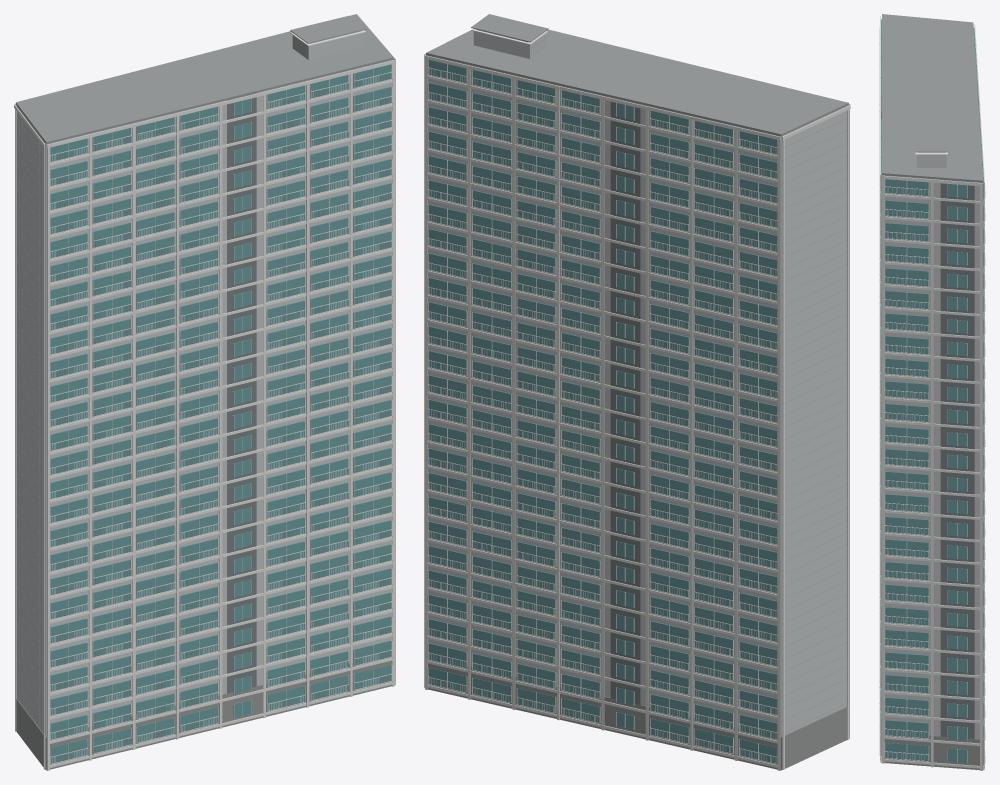
File: bespoke-jamsil-ricenz-228.glb
3 renders of one model, left to right at view 1: azimuth 30°, elevation 25°; view 2: azimuth 150°, elevation 25°; view 3: azimuth 270°, elevation 25°, orthographic. The views are drawn at different scales.
Visible parts, largest first — view 1: Ricenz228_editable_Ricenz228_turquoise_balcony_glazing, Ricenz228_editable_Ricenz228_light_grey_solid_wall, Ricenz228_white_exact_chunk_2, Ricenz228_white_exact_chunk_1, Ricenz228_white_exact_chunk_0, Ricenz228_editable_Ricenz228_modest_grey_flat_roof_caps, Ricenz228_editable_Ricenz228_narrow_charcoal_service_strips, Ricenz228_editable_Ricenz228_muted_ground_wall, Ricenz228_white_exact_chunk_3; view 2: Ricenz228_editable_Ricenz228_turquoise_balcony_glazing, Ricenz228_editable_Ricenz228_light_grey_solid_wall, Ricenz228_white_exact_chunk_4, Ricenz228_white_exact_chunk_5, Ricenz228_white_exact_chunk_6, Ricenz228_editable_Ricenz228_modest_grey_flat_roof_caps, Ricenz228_white_exact_chunk_3, Ricenz228_editable_Ricenz228_narrow_charcoal_service_strips, Ricenz228_editable_Ricenz228_muted_ground_wall, Ricenz228_white_exact_chunk_0; view 3: Ricenz228_editable_Ricenz228_turquoise_balcony_glazing, Ricenz228_white_exact_chunk_3, Ricenz228_editable_Ricenz228_modest_grey_flat_roof_caps, Ricenz228_editable_Ricenz228_light_grey_solid_wall, Ricenz228_editable_Ricenz228_narrow_charcoal_service_strips, Ricenz228_white_exact_chunk_2, Ricenz228_editable_Ricenz228_muted_ground_wall, Ricenz228_white_exact_chunk_6.
Part boxes in pixels (x1,y1,x2,y2): Ricenz228_editable_Ricenz228_turquoise_balcony_glazing: (50, 64, 391, 763); Ricenz228_editable_Ricenz228_light_grey_solid_wall: (16, 31, 393, 737); Ricenz228_white_exact_chunk_2: (47, 60, 394, 770); Ricenz228_white_exact_chunk_1: (135, 98, 306, 736); Ricenz228_white_exact_chunk_0: (14, 104, 176, 769); Ricenz228_editable_Ricenz228_modest_grey_flat_roof_caps: (16, 14, 393, 729); Ricenz228_editable_Ricenz228_narrow_charcoal_service_strips: (227, 93, 256, 693); Ricenz228_editable_Ricenz228_muted_ground_wall: (16, 657, 391, 770); Ricenz228_white_exact_chunk_3: (358, 16, 395, 684); Ricenz228_editable_Ricenz228_turquoise_balcony_glazing: (428, 60, 777, 763); Ricenz228_editable_Ricenz228_light_grey_solid_wall: (426, 29, 848, 736); Ricenz228_white_exact_chunk_4: (470, 70, 690, 747); Ricenz228_white_exact_chunk_5: (648, 110, 777, 767); Ricenz228_white_exact_chunk_6: (425, 28, 780, 770); Ricenz228_editable_Ricenz228_modest_grey_flat_roof_caps: (426, 14, 848, 732); Ricenz228_white_exact_chunk_3: (424, 53, 512, 706); Ricenz228_editable_Ricenz228_narrow_charcoal_service_strips: (610, 97, 640, 704); Ricenz228_editable_Ricenz228_muted_ground_wall: (428, 659, 849, 770); Ricenz228_white_exact_chunk_0: (782, 105, 850, 769); Ricenz228_editable_Ricenz228_turquoise_balcony_glazing: (881, 19, 983, 762); Ricenz228_white_exact_chunk_3: (881, 169, 985, 770); Ricenz228_editable_Ricenz228_modest_grey_flat_roof_caps: (882, 14, 982, 182); Ricenz228_editable_Ricenz228_light_grey_solid_wall: (882, 152, 982, 739); Ricenz228_editable_Ricenz228_narrow_charcoal_service_strips: (881, 87, 978, 738); Ricenz228_white_exact_chunk_2: (879, 16, 930, 764); Ricenz228_editable_Ricenz228_muted_ground_wall: (881, 731, 983, 770); Ricenz228_white_exact_chunk_6: (915, 24, 984, 769).
Size of the model in its own units: 47.59 by 79.93 by 12.66.
